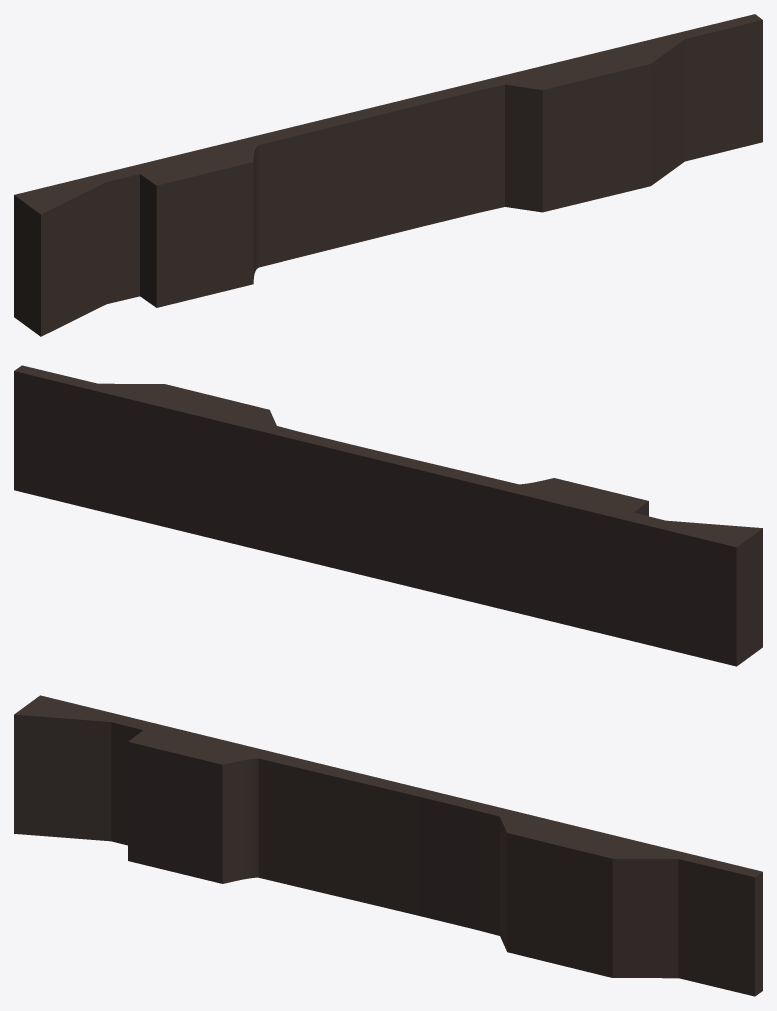
The model's file is upper land.FBX.
3 renders of one model, top to bottom at view 1: azimuth 30°, elevation 25°; view 2: azimuth 150°, elevation 25°; view 3: azimuth 330°, elevation 25°, orthographic. The views are drawn at different scales.
Parts seen in each view (by area): view 1: Shape1; view 2: Shape1; view 3: Shape1.
Part boxes in pixels (x1,y1,x2,y2): Shape1: [14, 14, 762, 336]; Shape1: [14, 365, 762, 666]; Shape1: [14, 695, 762, 996].
Size of the model in its own units: 159 by 25 by 9.98.
